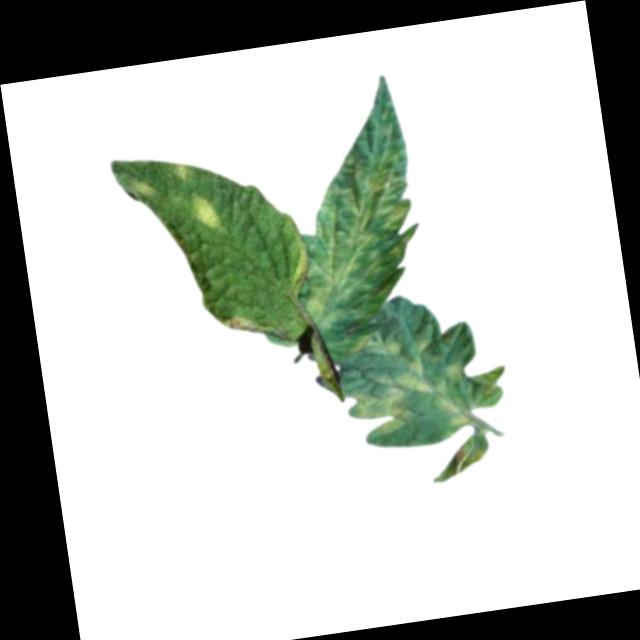Leaf_Mold: (271, 71, 435, 338), (338, 317, 469, 440), (221, 310, 278, 338), (192, 194, 227, 231), (128, 169, 158, 201)
